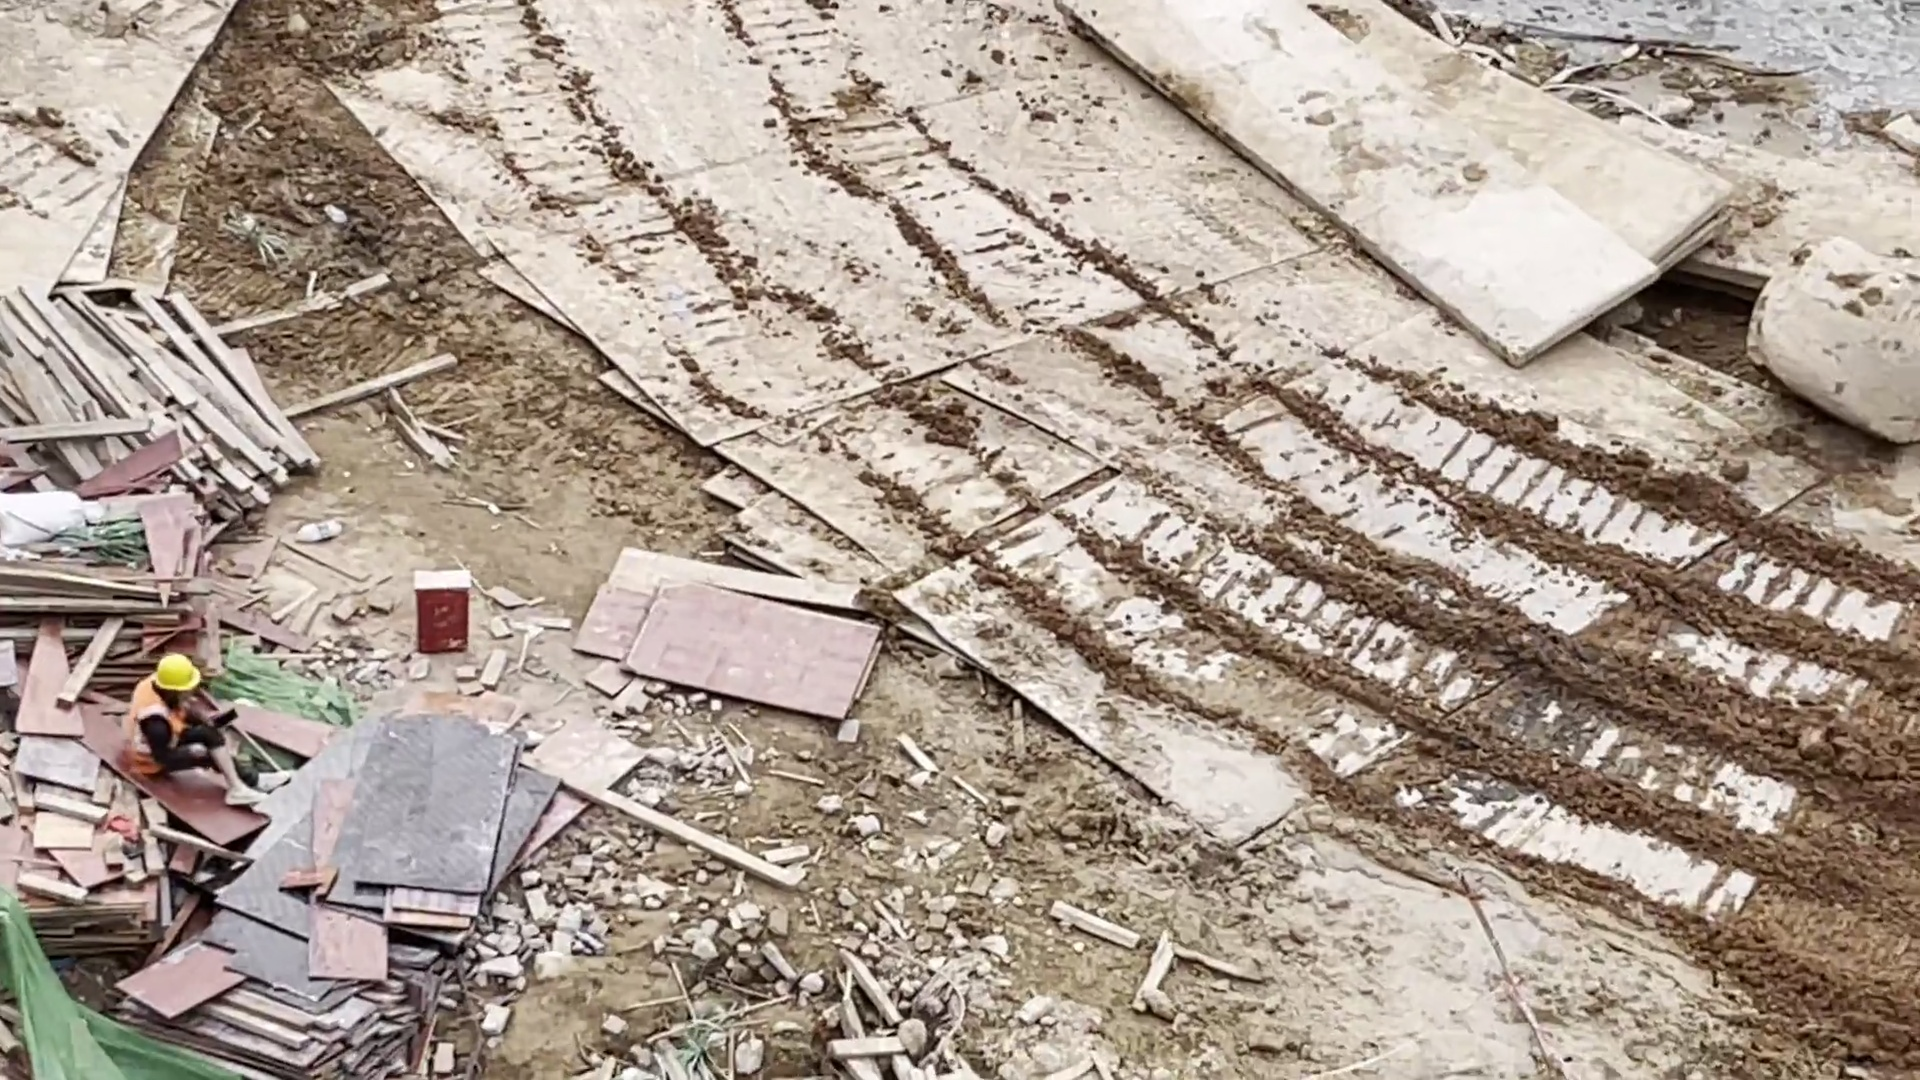board: (136, 648, 558, 1068)
helmet: (145, 651, 198, 692)
person: (117, 651, 277, 811)
vest: (120, 673, 184, 770)
